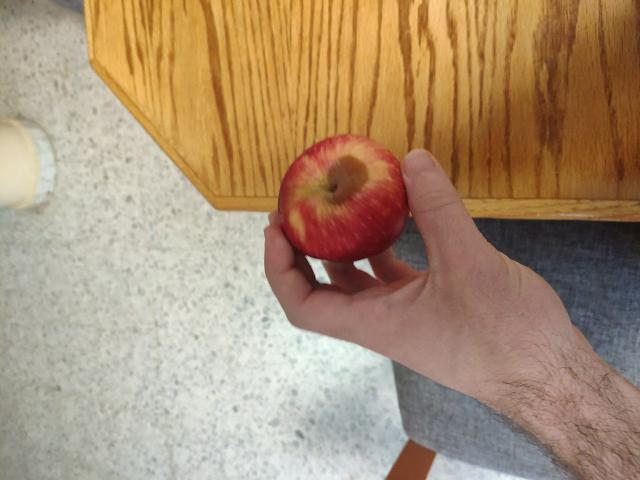apple: (269, 135, 417, 260)
